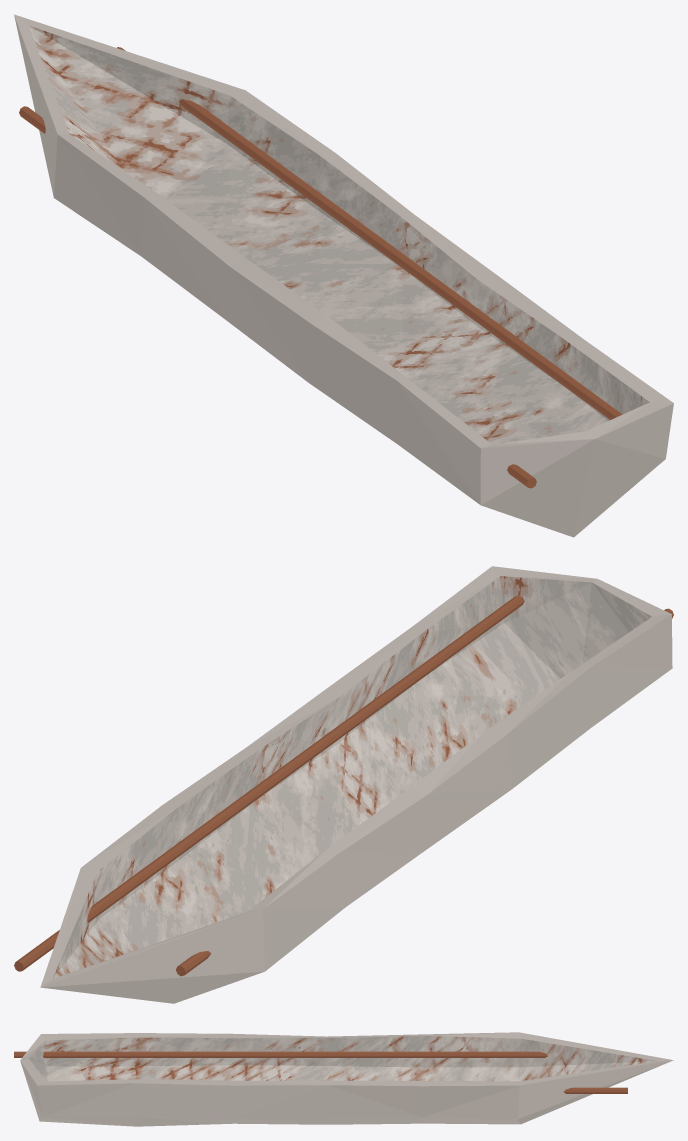
The model's file is escombro4.glb.
The picture shows the model from 3 angles, top to bottom: view 1: azimuth 30°, elevation 25°; view 2: azimuth 150°, elevation 25°; view 3: azimuth 270°, elevation 25°; orthographic projection. The views are drawn at different scales.
Visible parts, largest first — view 1: Cylinder.005; view 2: Cylinder.005; view 3: Cylinder.005.
Boxes of the visible parts, bbox=[...] form: Cylinder.005: bbox=[14, 14, 673, 537]; Cylinder.005: bbox=[14, 566, 673, 1003]; Cylinder.005: bbox=[14, 1032, 673, 1126].
Bounding box in the file's own units: 2.78 × 1.65 × 14.45.
Materials: 1 (1 with a texture image).
